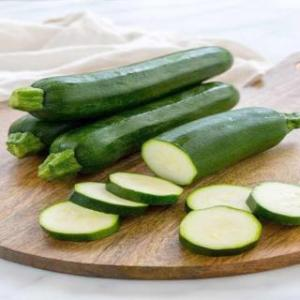zucchini: (9, 57, 241, 139)
